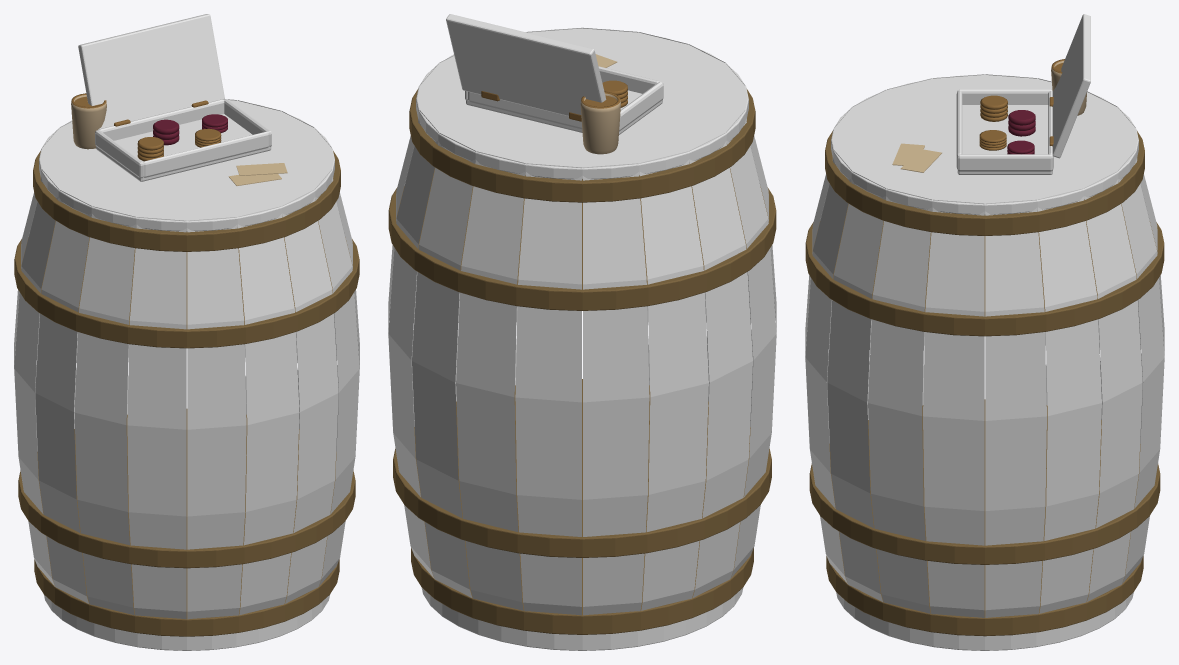
File: WagerBarrel.fbx
3 renders of one model, left to right at view 1: azimuth 30°, elevation 25°; view 2: azimuth 150°, elevation 25°; view 3: azimuth 270°, elevation 25°, orthographic. The views are drawn at different scales.
Parts seen in each view (by area): view 1: Part_WagerBarrelStaves, Part_WagerBarrelHead, Part_WagerCaseLid, Part_WagerBarrelHoop.002, Part_WagerBarrelHoop.001, Part_WagerBarrelHoop.003, Part_WagerBarrelHoop, Part_WagerBarrelFoot, Part_WagerTrayLip.002, Part_WagerTray, Part_WagerTrayLip.003, Part_WagerCup (+5 smaller); view 2: Part_WagerBarrelStaves, Part_WagerBarrelHead, Part_WagerCaseLid, Part_WagerBarrelHoop.002, Part_WagerBarrelHoop.001, Part_WagerBarrelHoop.003, Part_WagerBarrelHoop, Part_WagerBarrelFoot, Part_WagerCup, Part_WagerTrayLip.003, Part_WagerTrayLip, Part_WagerTray (+1 smaller); view 3: Part_WagerBarrelStaves, Part_WagerBarrelHead, Part_WagerBarrelHoop.002, Part_WagerBarrelHoop.001, Part_WagerBarrelHoop.003, Part_WagerBarrelHoop, Part_WagerBarrelFoot, Part_WagerCaseLid, Part_WagerTray, Part_WagerTrayLip.001, Part_WagerTrayLip, Part_WagerChipStack.001 (+3 smaller).
Part boxes in pixels (x1=…): Part_WagerBarrelStaves: x1=14, y1=99, x2=359, y2=619; Part_WagerBarrelHead: x1=39, y1=100, x2=334, y2=231; Part_WagerCaseLid: x1=78, y1=14, x2=224, y2=129; Part_WagerBarrelHoop.002: x1=14, y1=221, x2=359, y2=348; Part_WagerBarrelHoop.001: x1=18, y1=409, x2=355, y2=568; Part_WagerBarrelHoop.003: x1=33, y1=151, x2=340, y2=251; Part_WagerBarrelHoop: x1=34, y1=536, x2=339, y2=636; Part_WagerBarrelFoot: x1=44, y1=595, x2=329, y2=650; Part_WagerTrayLip.002: x1=143, y1=131, x2=269, y2=177; Part_WagerTray: x1=96, y1=114, x2=271, y2=181; Part_WagerTrayLip.003: x1=98, y1=99, x2=224, y2=140; Part_WagerCup: x1=71, y1=93, x2=106, y2=149; Part_WagerBarrelStaves: x1=388, y1=27, x2=776, y2=615; Part_WagerBarrelHead: x1=416, y1=28, x2=748, y2=179; Part_WagerCaseLid: x1=446, y1=14, x2=606, y2=116; Part_WagerBarrelHoop.002: x1=388, y1=168, x2=776, y2=310; Part_WagerBarrelHoop.001: x1=393, y1=379, x2=771, y2=557; Part_WagerBarrelHoop.003: x1=409, y1=89, x2=755, y2=202; Part_WagerBarrelHoop: x1=411, y1=522, x2=753, y2=634; Part_WagerBarrelFoot: x1=421, y1=588, x2=743, y2=650; Part_WagerCup: x1=580, y1=91, x2=620, y2=154; Part_WagerTrayLip.003: x1=468, y1=91, x2=582, y2=129; Part_WagerTrayLip: x1=619, y1=82, x2=663, y2=131; Part_WagerTray: x1=466, y1=90, x2=662, y2=134; Part_WagerBarrelStaves: x1=805, y1=74, x2=1164, y2=617; Part_WagerBarrelHead: x1=831, y1=75, x2=1138, y2=214; Part_WagerBarrelHoop.002: x1=805, y1=204, x2=1164, y2=336; Part_WagerBarrelHoop.001: x1=809, y1=399, x2=1160, y2=564; Part_WagerBarrelHoop.003: x1=825, y1=131, x2=1144, y2=235; Part_WagerBarrelHoop: x1=826, y1=531, x2=1143, y2=636; Part_WagerBarrelFoot: x1=836, y1=592, x2=1133, y2=650; Part_WagerCaseLid: x1=1052, y1=14, x2=1090, y2=158; Part_WagerTray: x1=957, y1=105, x2=1052, y2=174; Part_WagerTrayLip.001: x1=957, y1=154, x2=1053, y2=171; Part_WagerTrayLip: x1=957, y1=89, x2=1052, y2=104; Part_WagerChipStack.001: x1=1008, y1=110, x2=1035, y2=136.
Bounding box in the file's own units: 0.718 × 1.18 × 0.7073.
